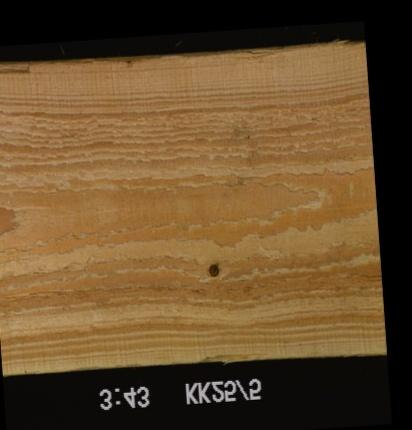dry_knot: (205, 262, 219, 277)
wave: (82, 41, 363, 62), (192, 353, 266, 360)
